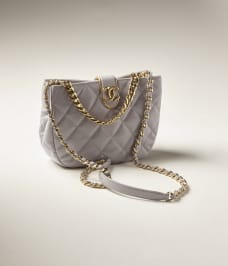channel: (34, 68, 173, 188), (68, 84, 97, 121), (97, 81, 121, 108)
